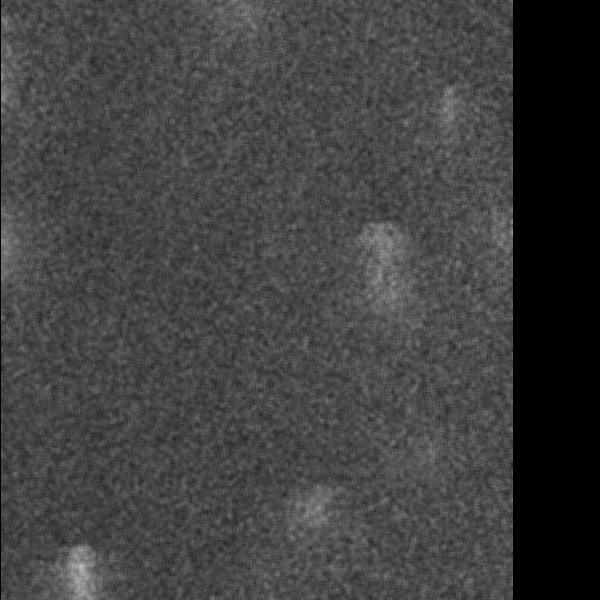spark: (287, 480, 337, 552), (357, 203, 375, 348), (59, 539, 101, 597), (434, 79, 459, 153)
